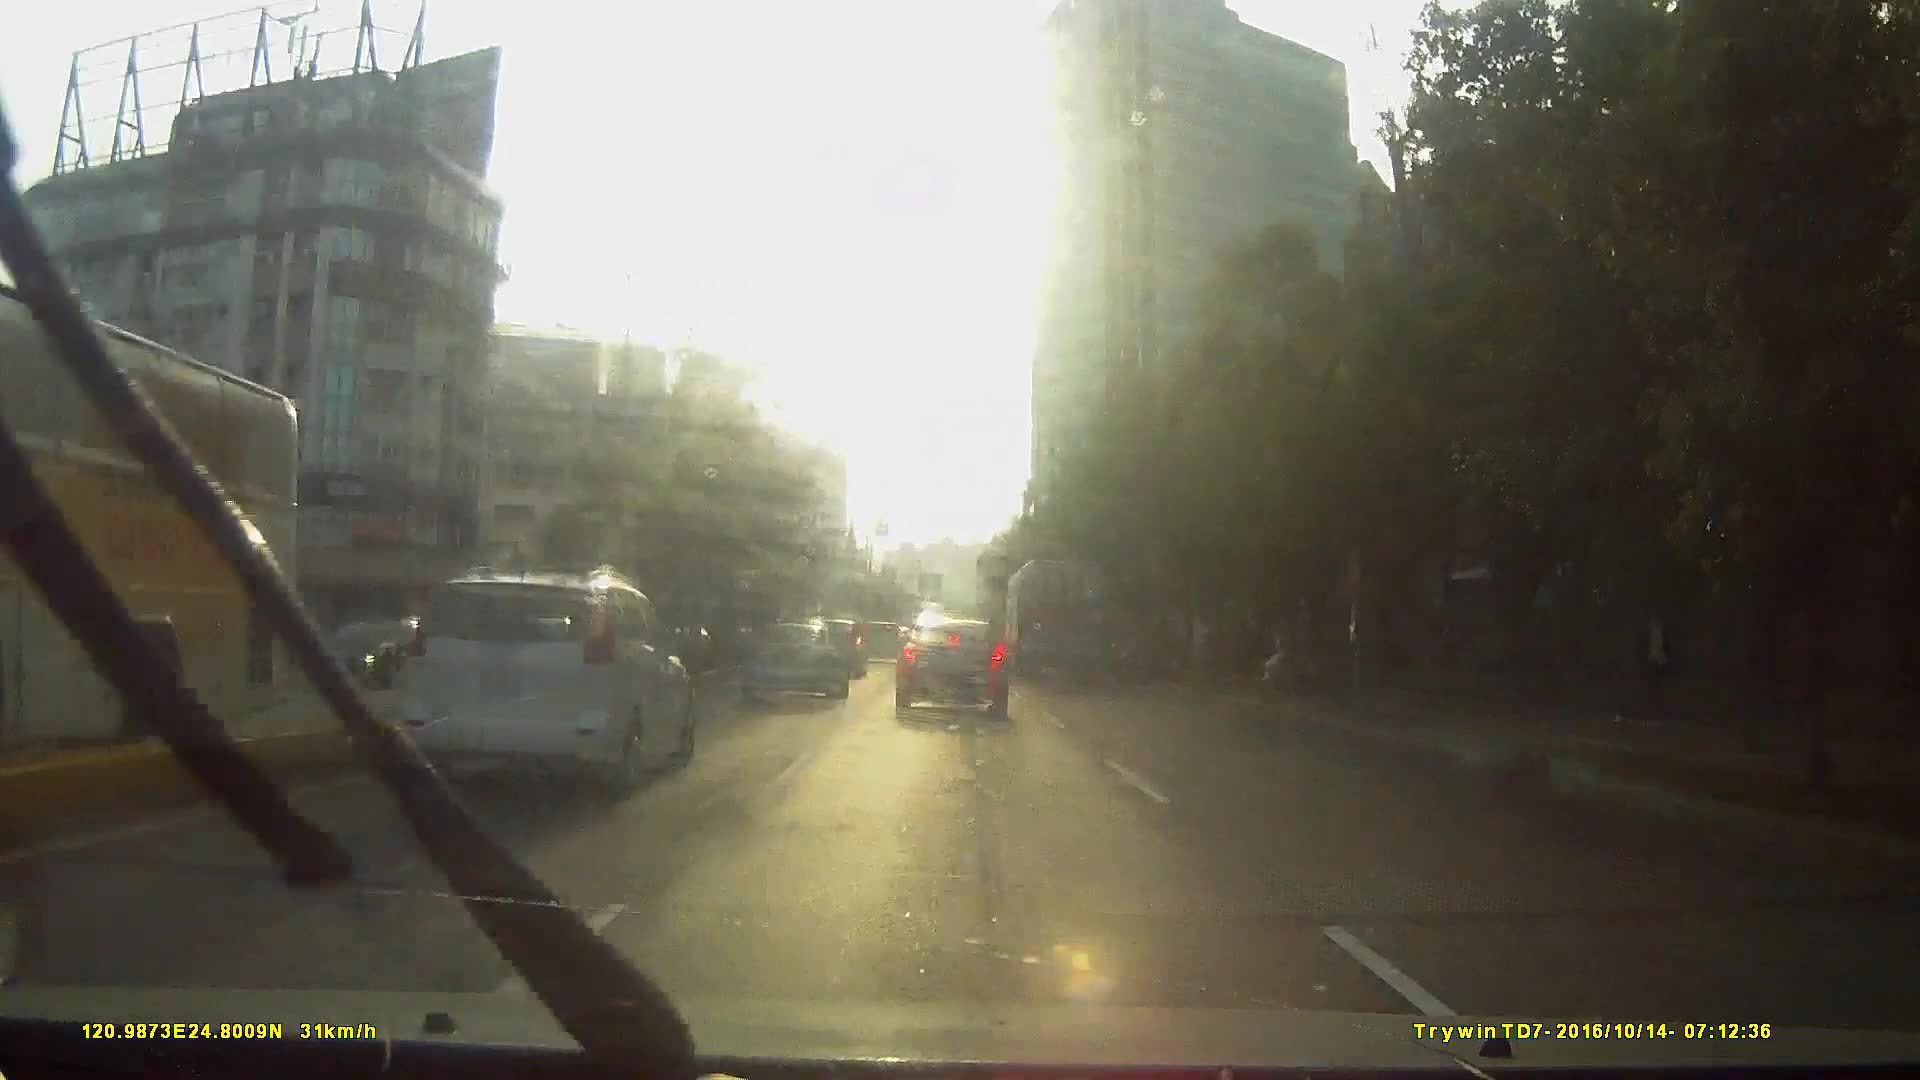pedestrian: (1613, 579, 1688, 741)
vehicle: (1, 284, 312, 800), (250, 556, 684, 868), (396, 567, 693, 792), (294, 616, 453, 701), (1005, 557, 1111, 685), (891, 613, 1007, 721), (736, 621, 845, 704), (853, 616, 902, 665)
